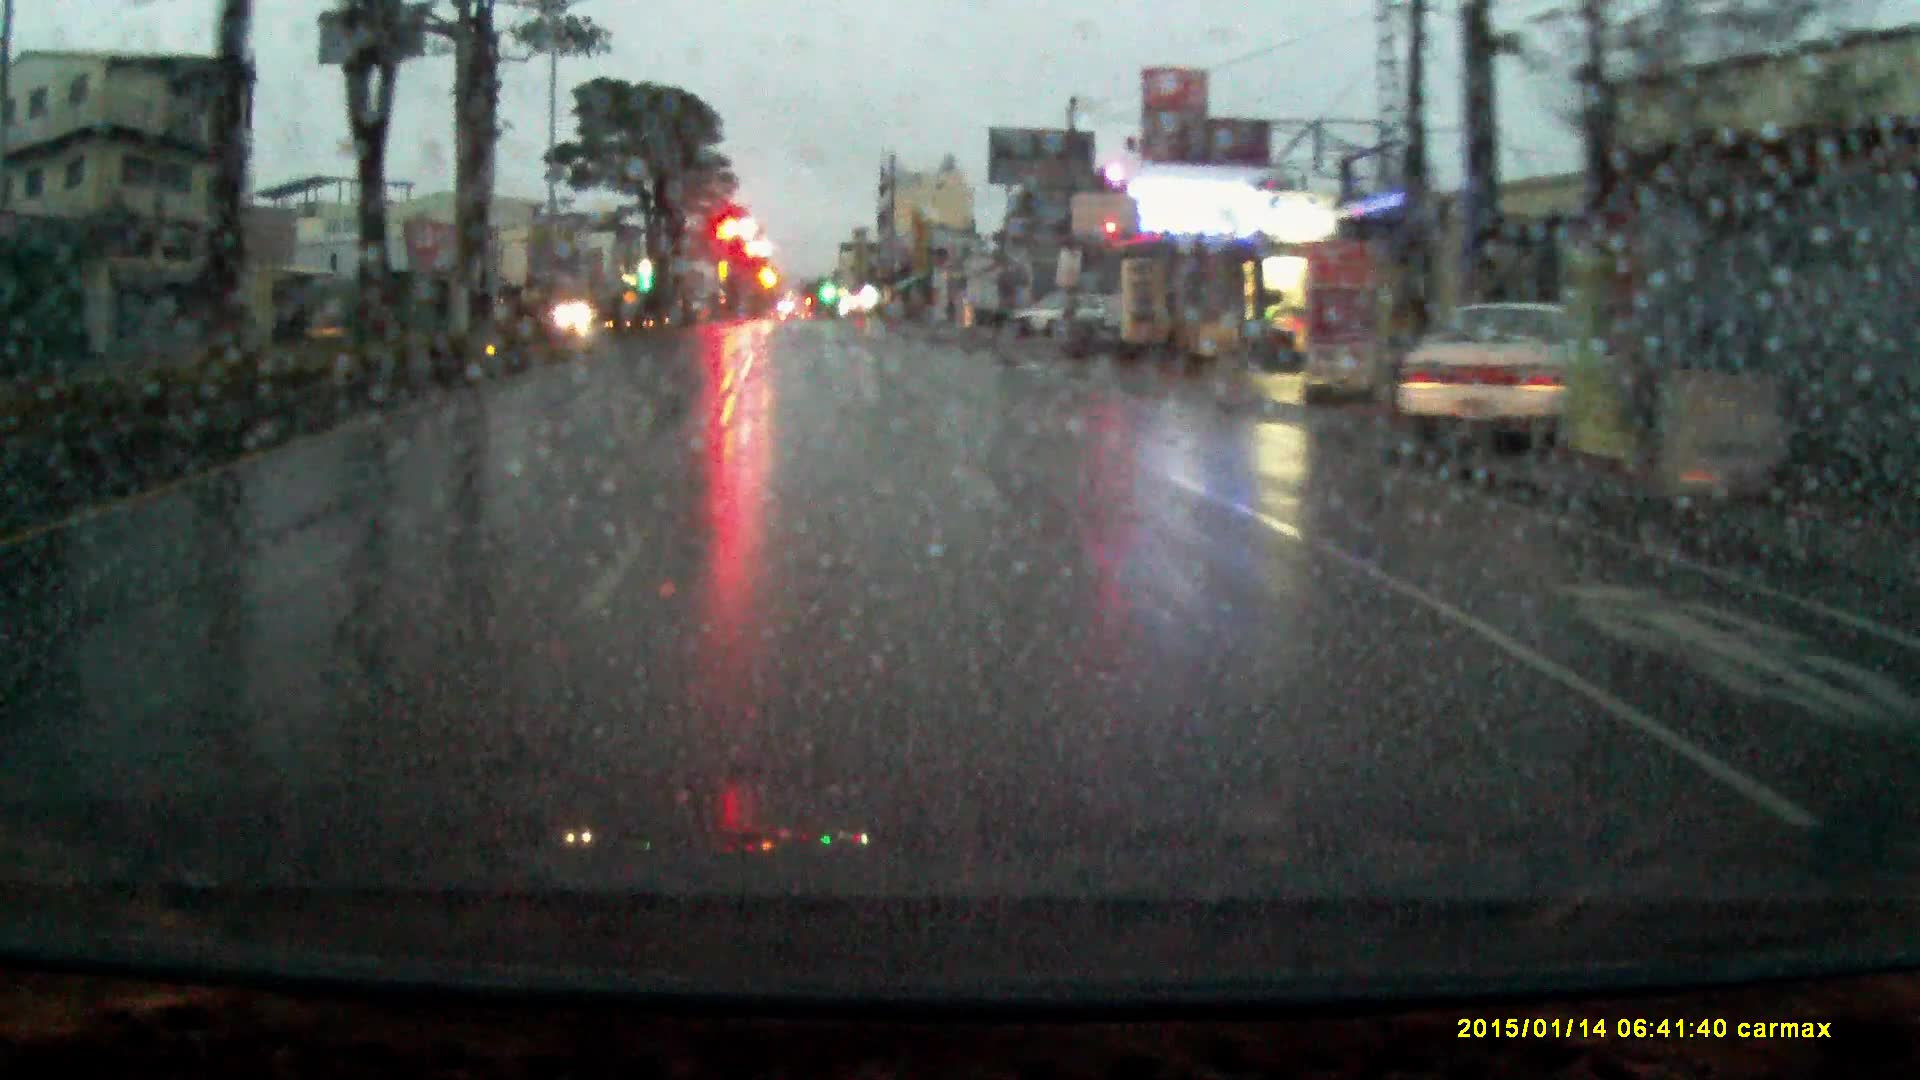vehicle: (1391, 287, 1636, 448), (1011, 291, 1112, 338), (556, 299, 601, 332)
